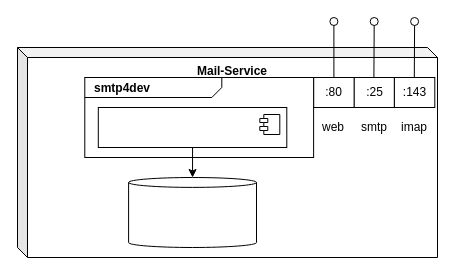
This 462x275 diagram has some shape labels left out. The shapes that lost their labels are listed below. From the top down, each one's centre as x and y in pixels, then its label:
the point at 192,127: smtp-Server und Web-App
the point at 192,212: /smtp4dev: Docker- Volume für Maildaten
